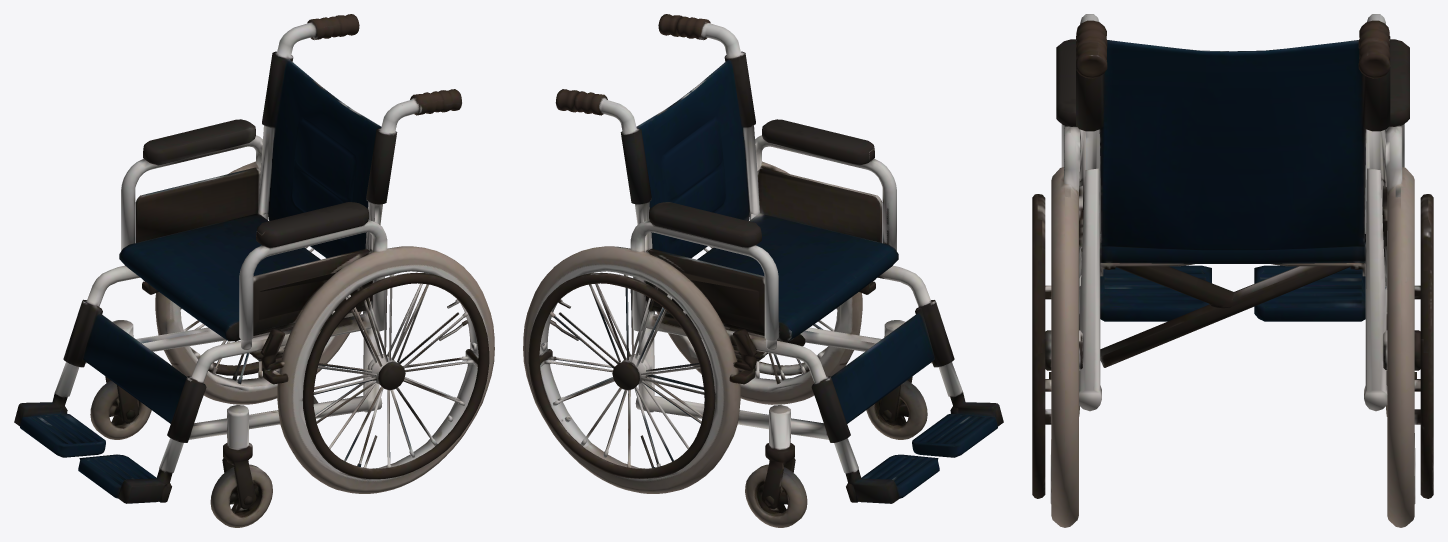
File: a_wheelchair_63e61bed_v3.glb
3 views of the same model, side by side, from view 1: azimuth 30°, elevation 25°; view 2: azimuth 150°, elevation 25°; view 3: azimuth 270°, elevation 25° (orthographic). The views are drawn at different scales.
Visible parts, largest first — view 1: material; view 2: material; view 3: material.
Boxes of the visible parts, <box> form: material: <box>14,14,494,527</box>; material: <box>523,14,1003,527</box>; material: <box>1032,14,1433,527</box>.
Size of the model in its own units: 1.9 by 1.88 by 1.31.
1 material, 1 textured.
